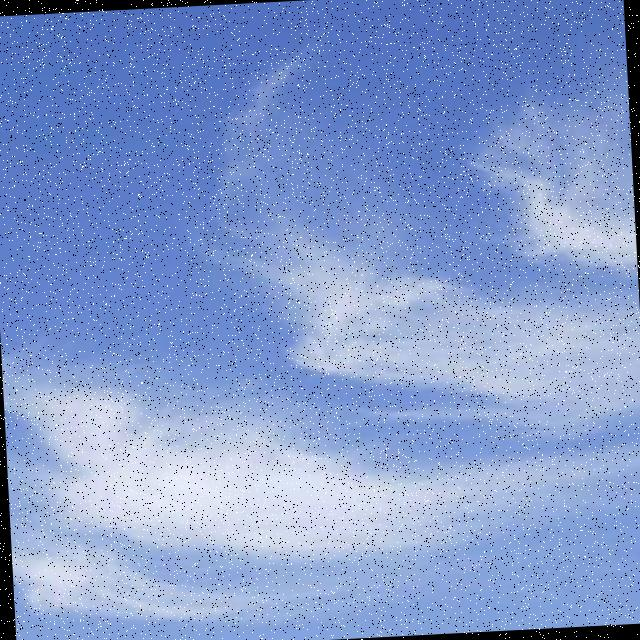Ci: (1, 57, 640, 640)
